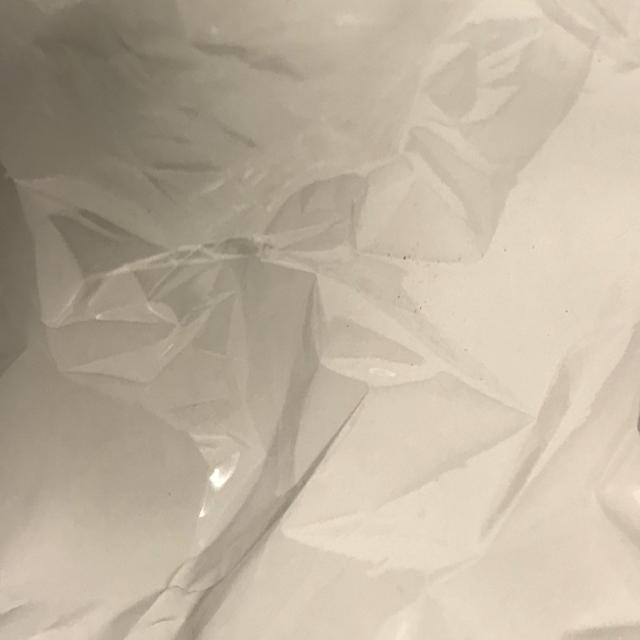trash: (2, 0, 638, 639)
